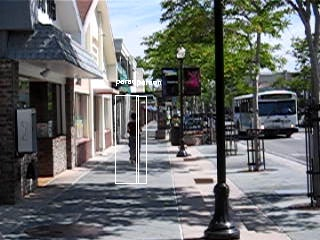person: (126, 111, 144, 164), (125, 111, 143, 164), (127, 111, 145, 164), (126, 110, 144, 163), (126, 112, 144, 165)
target_negative: (39, 125, 299, 235), (150, 115, 206, 190), (265, 148, 304, 220), (252, 168, 292, 212), (291, 116, 305, 203), (223, 59, 237, 125)
